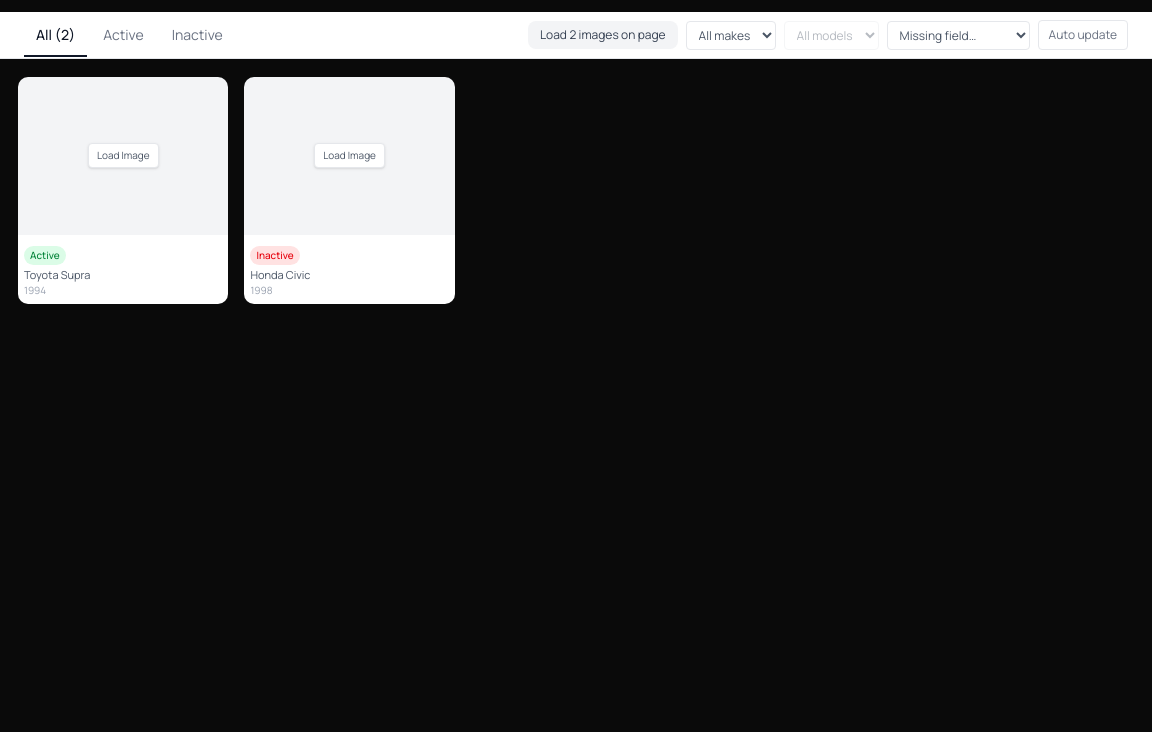
ImagesPanel › detail panel › unchecks the Active checkbox when the selected image is inactive
The image size is (1152, 732).
What coordinates should you click on to do the following:
click the text "Honda Civic"
I would click on:
 (280, 274)
Its box is [250,267,310,282].
(page scrolled)
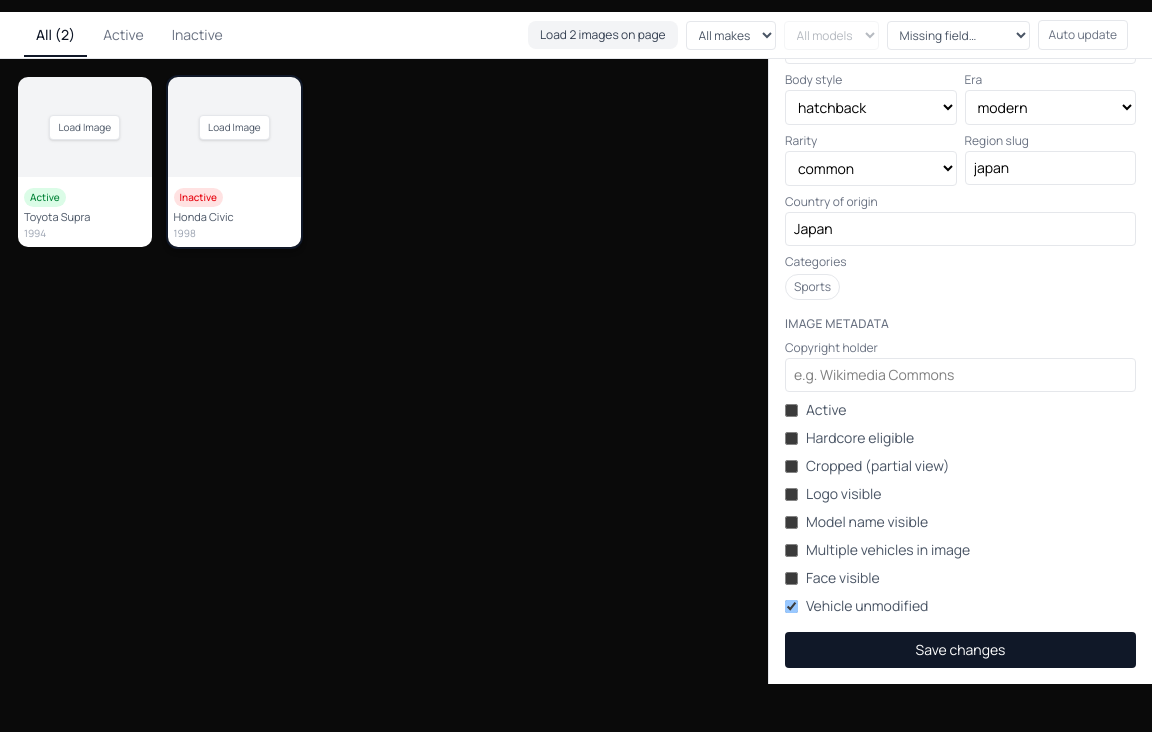
Expected: the checkbox labelled "Active" is not checked, [785,404,798,417]
